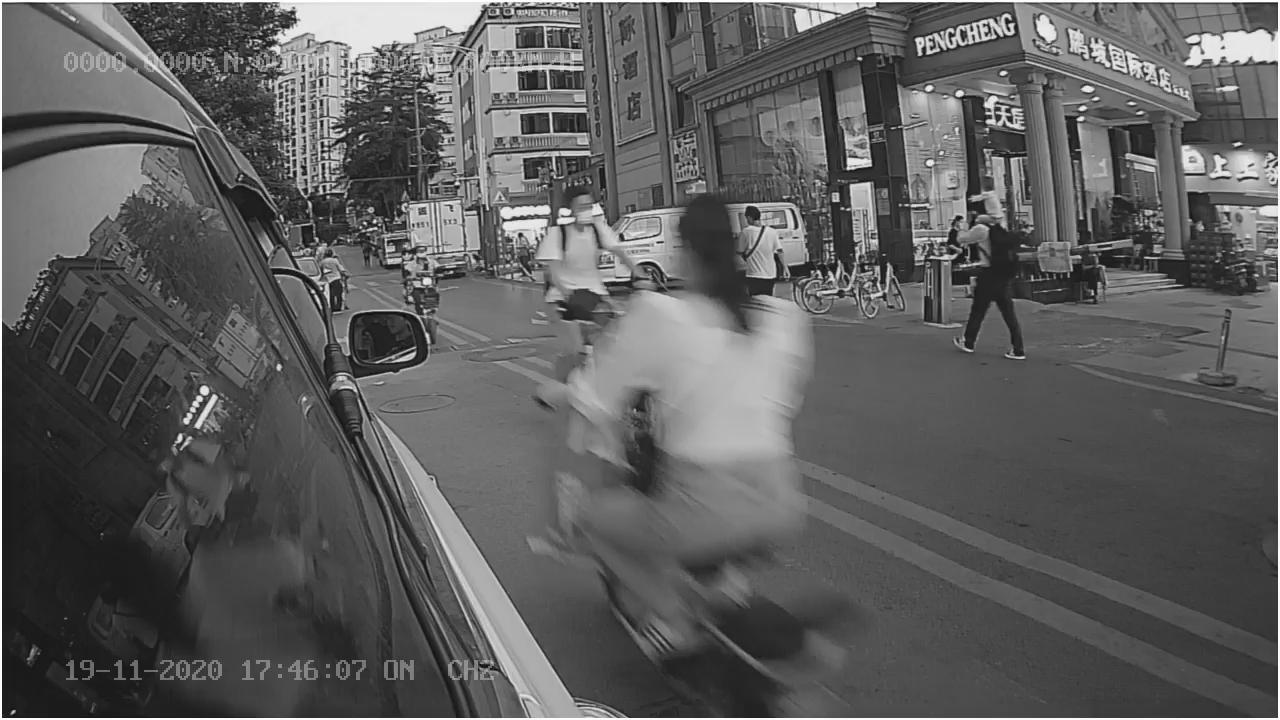person: (601, 207, 820, 570)
